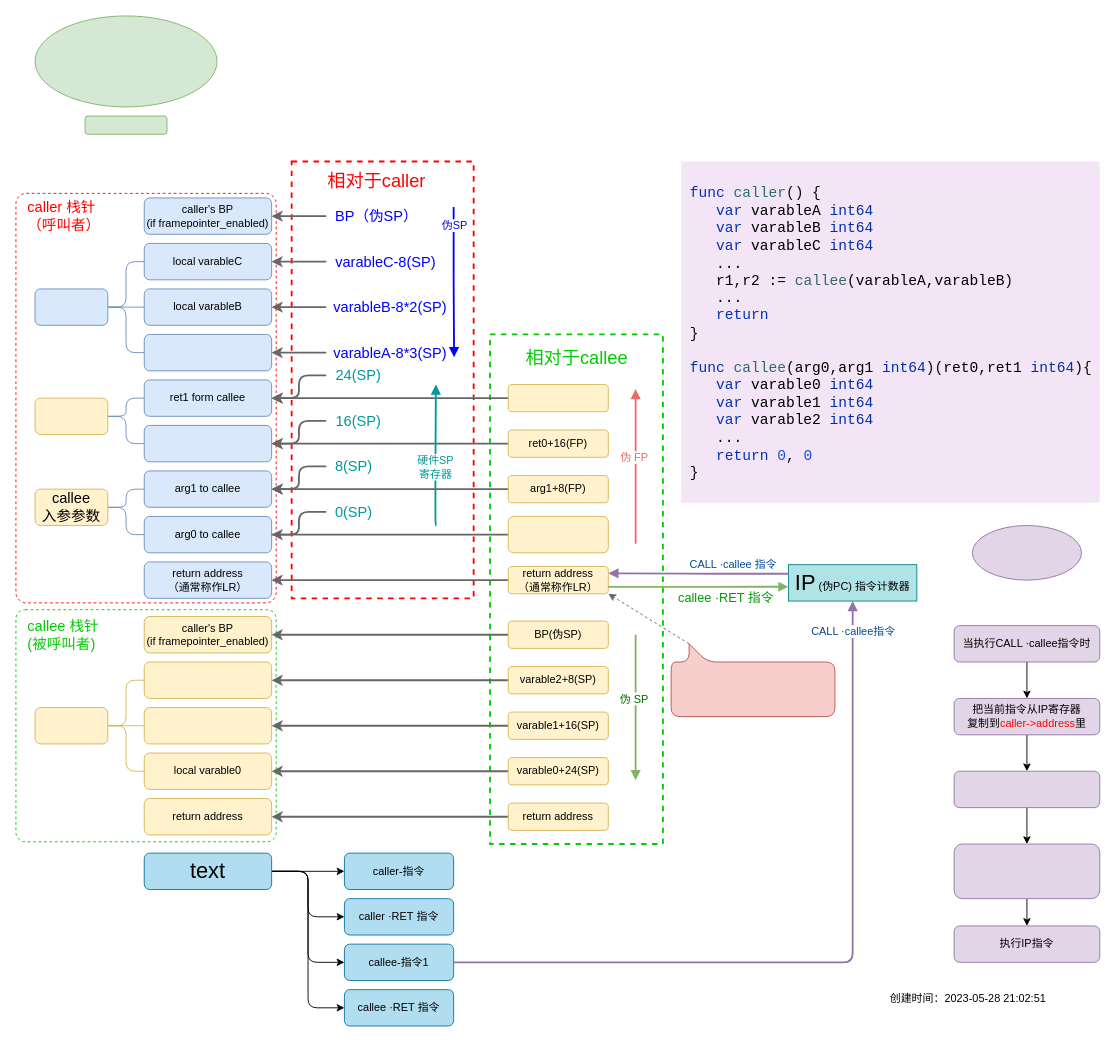
Some shapes in this 1116 by 1042 pixel diagram are drawn without their labels. Here are the shapes that lost their labels. From the top down, the centre of each, then its label:
the point at 125,61: Golang 汇编函数调用 内存分析
the point at 125,124: Golang1.16.14
the point at 71,306: caller 局部变量
the point at 207,352: local varableA
the point at 71,416: callee 返回值
the point at 557,398: ret1+24(FP)
the point at 207,443: ret0 from callee
the point at 557,534: arg0+0(FP) callee的伪FP
the point at 1026,552: 调用CALL流程
the point at 207,679: local varable2
the point at 752,680: 调用指令返回的伪PC最终位于堆栈帧之上。伪 PC通常被称为LR
the point at 71,725: callee 局部变量
the point at 207,725: local varable1
the point at 1026,789: 把一下个要执行的指令 放到IP寄存器里执行
the point at 1026,871: 当callee执行到RET指令的时 把 caller->address（LR） 放到IP寄存器里执行
